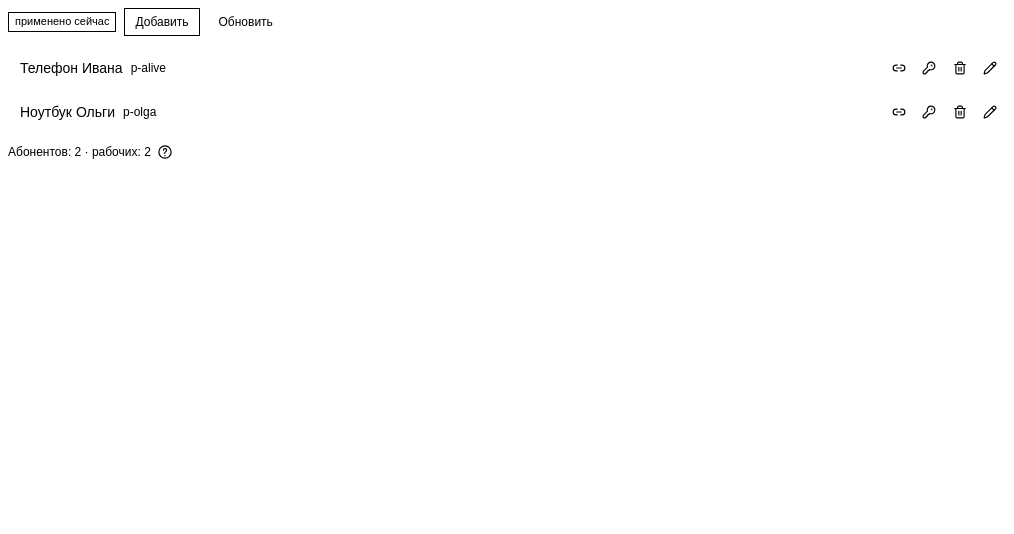
it: панель ссылок › смена абонента пересобирает ссылки на его пароль
The width and height of the screenshot is (1014, 534).
Expected: the text "Ноутбук Ольги" is shown, [20,104,115,120]
Click the button named "Ссылка" in the row of "Телефон Ивана": (899, 68) [885,54,913,82]
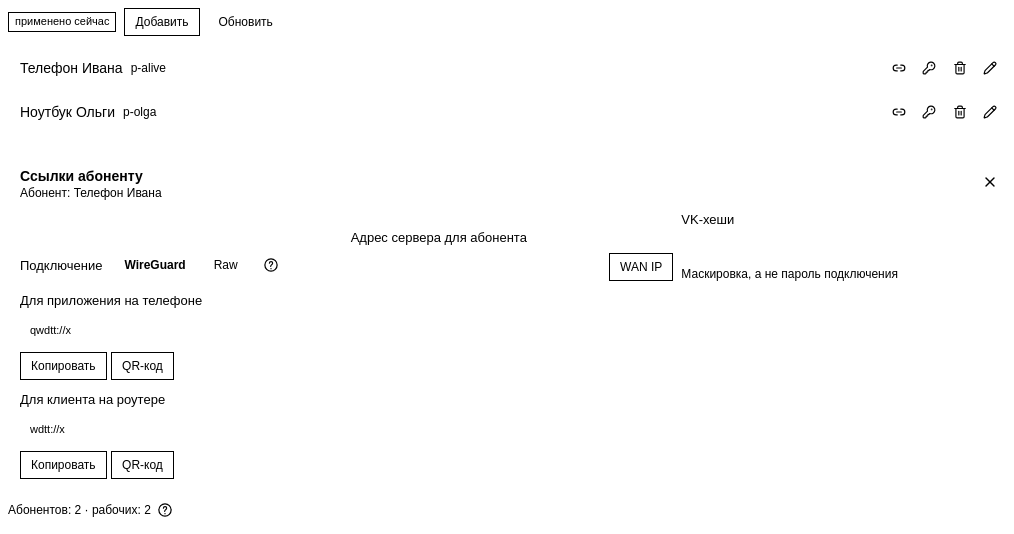
Click the button named "Ссылка" in the row of "Ноутбук Ольги": (899, 112) [885,98,913,126]
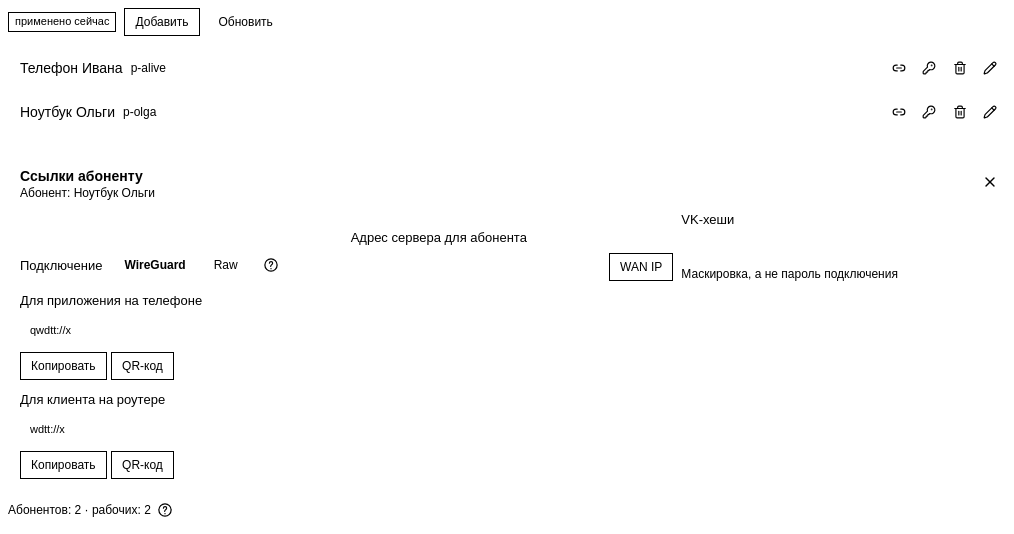
Expected: the text "Абонент: Ноутбук Ольги" is shown, [20,186,155,200]
